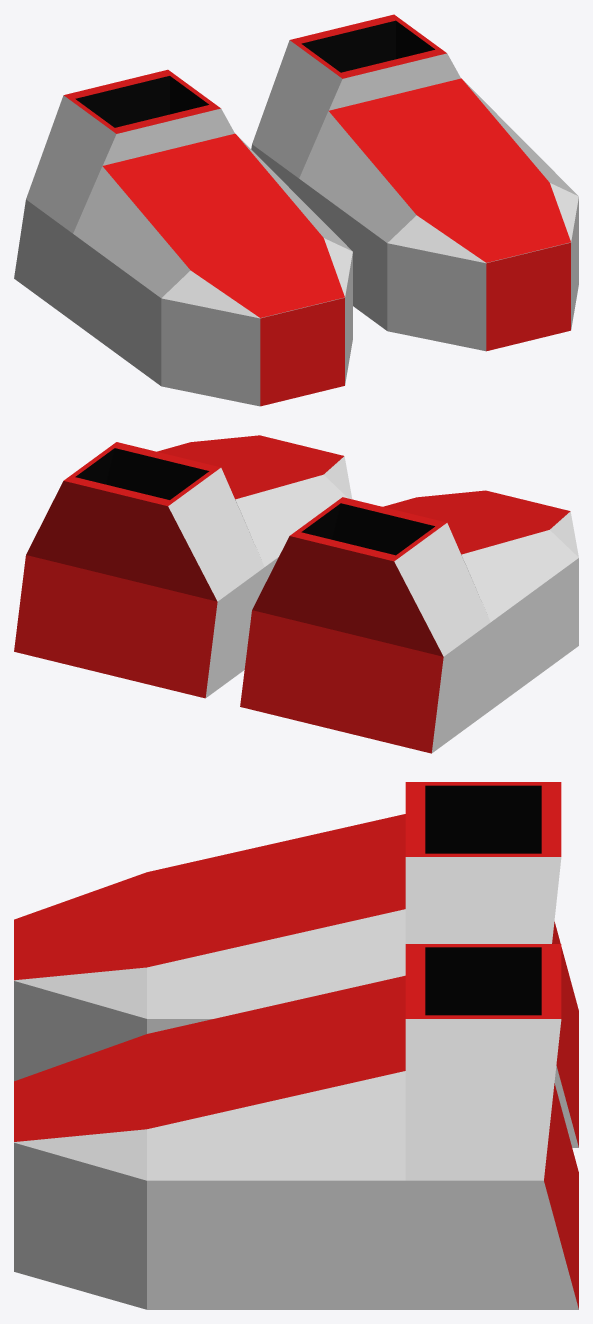
Rendered from ZapatosSaltoExtra.fbx.
3 renders of one model, top to bottom at view 1: azimuth 30°, elevation 25°; view 2: azimuth 150°, elevation 25°; view 3: azimuth 270°, elevation 25°, orthographic. The views are drawn at different scales.
Visible parts, largest first — view 1: Cubo.005, Cubo, Cubo.003, Cubo.002, Cubo.004, Cubo.001; view 2: Cubo.003, Cubo.002, Cubo.005, Cubo, Cubo.004, Cubo.001; view 3: Cubo, Cubo.002, Cubo.005, Cubo.003, Cubo.001, Cubo.004.
Boxes of the visible parts, left/top/right/bottom form: Cubo.005: left=14, top=95, right=352, bottom=406; Cubo: left=251, top=40, right=578, bottom=351; Cubo.003: left=64, top=69, right=344, bottom=406; Cubo.002: left=290, top=14, right=570, bottom=351; Cubo.004: left=75, top=76, right=208, bottom=127; Cubo.001: left=301, top=20, right=434, bottom=72; Cubo.003: left=240, top=490, right=570, bottom=753; Cubo.002: left=14, top=435, right=343, bottom=698; Cubo.005: left=394, top=511, right=578, bottom=753; Cubo: left=168, top=456, right=352, bottom=697; Cubo.004: left=301, top=503, right=434, bottom=555; Cubo.001: left=75, top=448, right=209, bottom=499; Cubo: left=14, top=1019, right=578, bottom=1309; Cubo.002: left=14, top=944, right=578, bottom=1308; Cubo.005: left=14, top=857, right=578, bottom=1147; Cubo.003: left=14, top=782, right=578, bottom=1146; Cubo.001: left=425, top=947, right=541, bottom=1015; Cubo.004: left=425, top=785, right=541, bottom=853.
Bounding box in the file's own units: 341 × 138 × 273.
